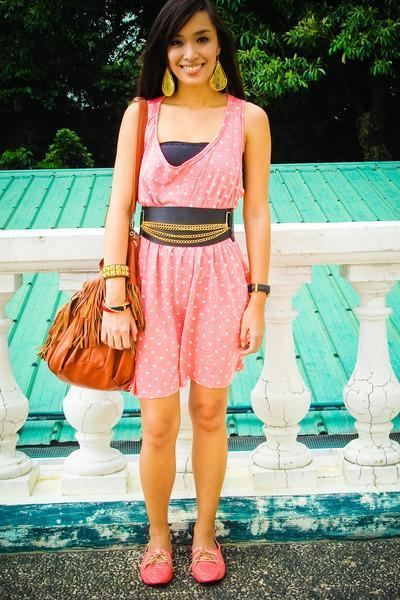bag: (38, 97, 163, 393)
dress: (121, 95, 251, 405)
shoe: (139, 554, 224, 582)
